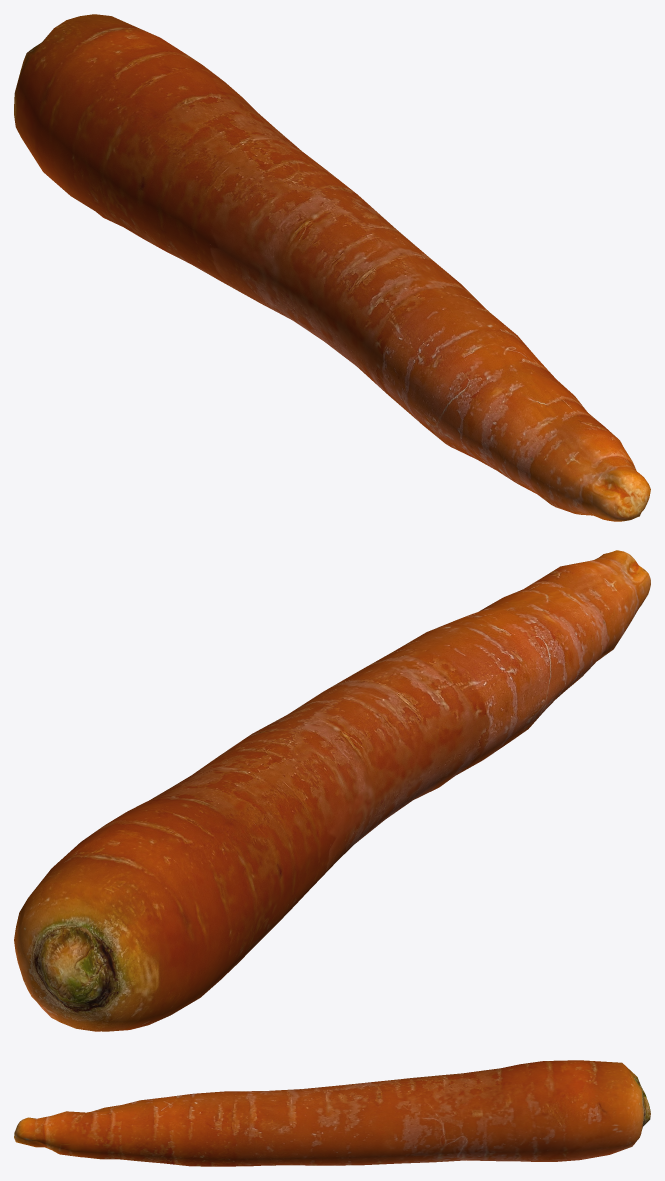
3 renders of one model, top to bottom at view 1: azimuth 30°, elevation 25°; view 2: azimuth 150°, elevation 25°; view 3: azimuth 270°, elevation 25°, orthographic. The views are drawn at different scales.
Visible parts, largest first — view 1: Carrot LP; view 2: Carrot LP; view 3: Carrot LP.
Part boxes in pixels (bbox=[...]): Carrot LP: bbox=[14, 14, 650, 521]; Carrot LP: bbox=[14, 550, 650, 1031]; Carrot LP: bbox=[14, 1060, 650, 1166].
Bounding box in the file's own units: 3 × 2.89 × 17.98.
1 material, 1 textured.
